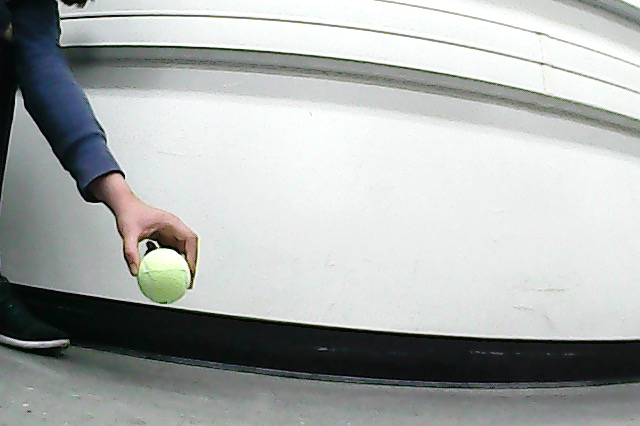ball: (138, 249, 191, 305)
